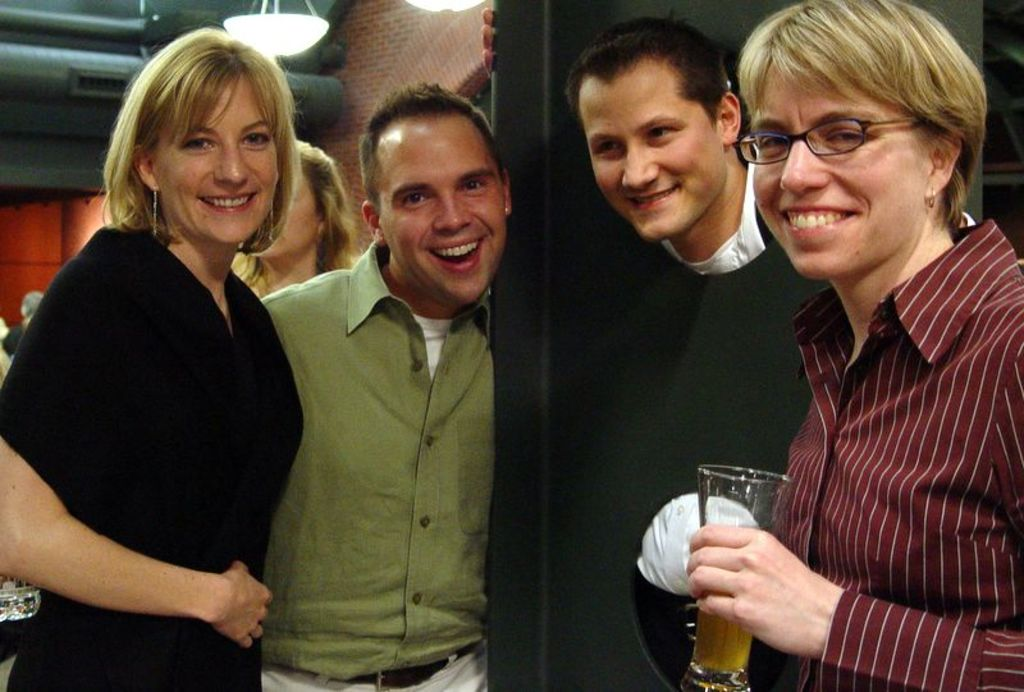Beer: (673, 459, 793, 690)
